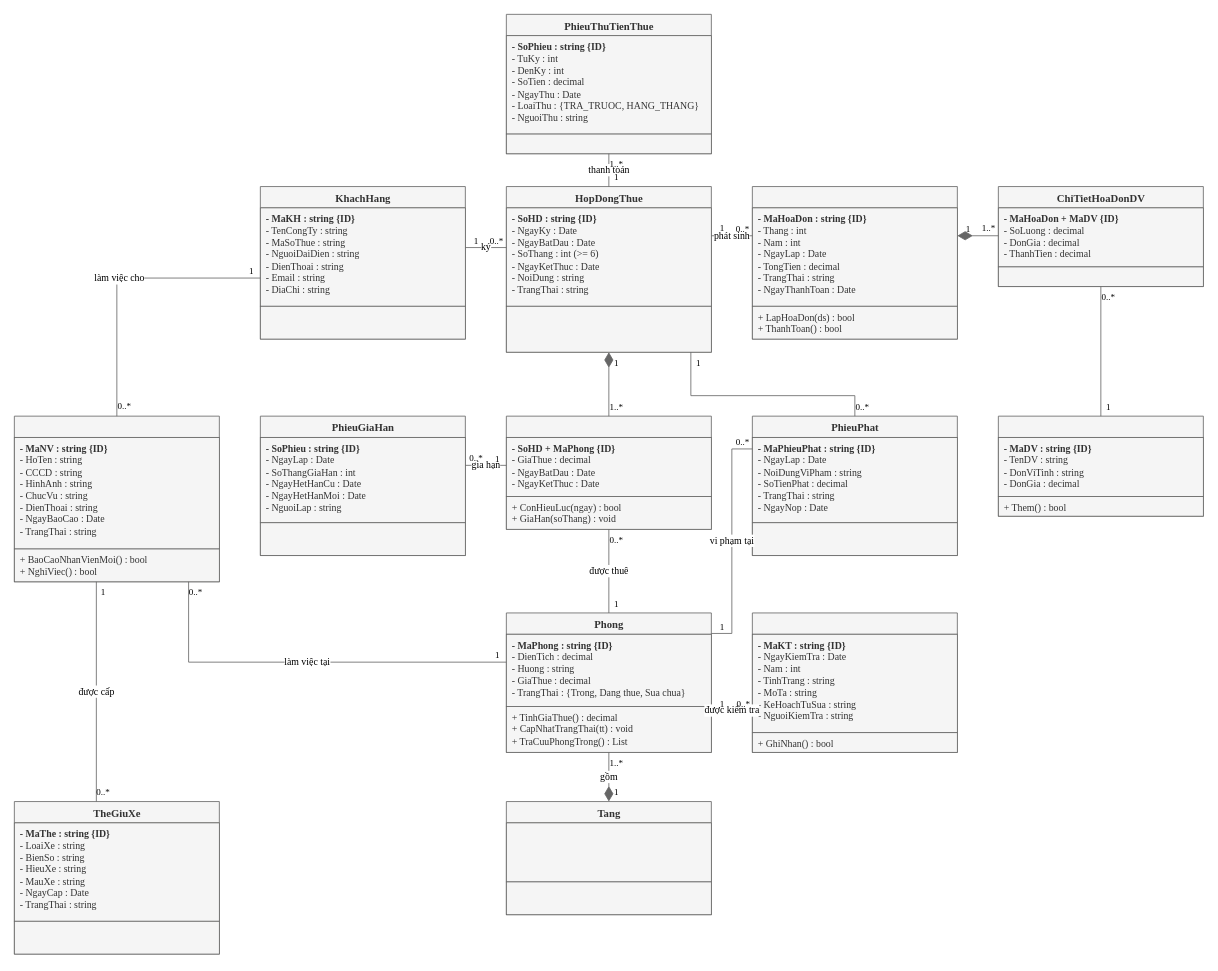
The diagram is 1218 pixels wide and 971 high, and some of its shapes have lost their labels. Each missing label, with the box of its shape:
+ CapThe() : bool + HuyThe() : bool: (14, 920, 219, 954)
+ KiemTraDieuKien() : bool + LapPhieu() : bool: (260, 522, 465, 556)
+ LapHopDong(dsPhong) : bool + TinhTrangThanhToan(ngay) + ThanhLy() : bool: (506, 305, 711, 352)
+ LapPhieuPhat() : bool + NopPhat() : bool: (752, 522, 957, 556)
+ Them() : bool + DsHopDong() : List: (260, 305, 465, 339)
+ Them() : bool + DsPhong() : List: (506, 881, 711, 915)
+ ThuTien() : bool: (506, 133, 711, 154)
+ TinhThanhTien() : decimal: (998, 266, 1203, 287)
- MaTang : string {ID} - TenTang : string - SoTang : int - HeSoGia : decimal: (506, 822, 711, 882)
ChiTietHopDong: (506, 415, 711, 529)
DichVu: (998, 415, 1203, 516)
HoaDonDichVu: (752, 186, 957, 339)
KiemTraPhong: (752, 612, 957, 752)
NhanVienCongTy: (14, 415, 219, 582)
